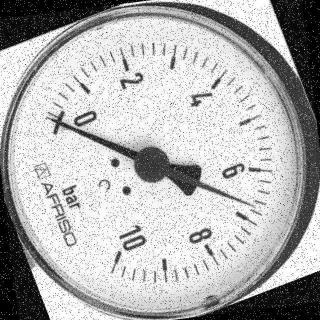gauge: (0, 0, 320, 320), (130, 143, 172, 186), (95, 239, 136, 283), (39, 102, 75, 142), (41, 110, 61, 128), (244, 198, 258, 212)
